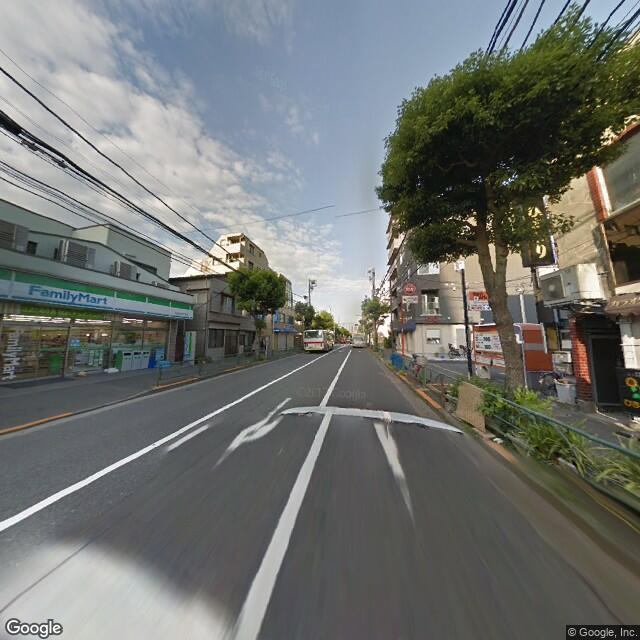family_mart: (1, 266, 197, 322), (25, 281, 111, 311), (1, 321, 24, 383)
